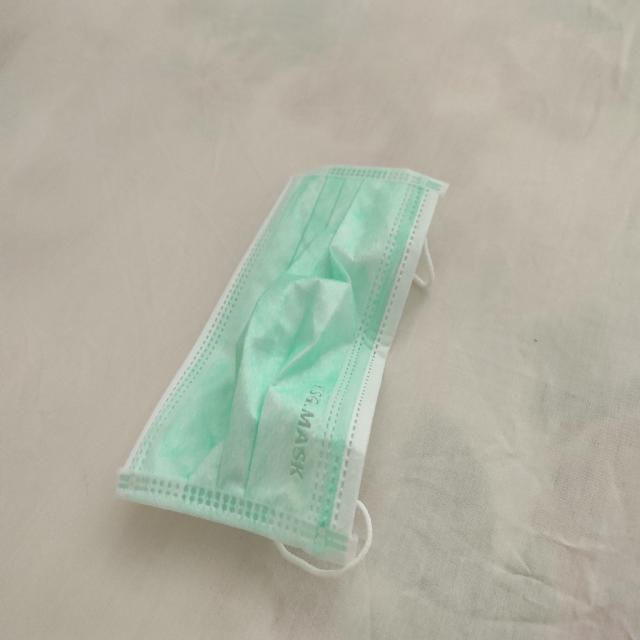face mask: (117, 163, 446, 572)
